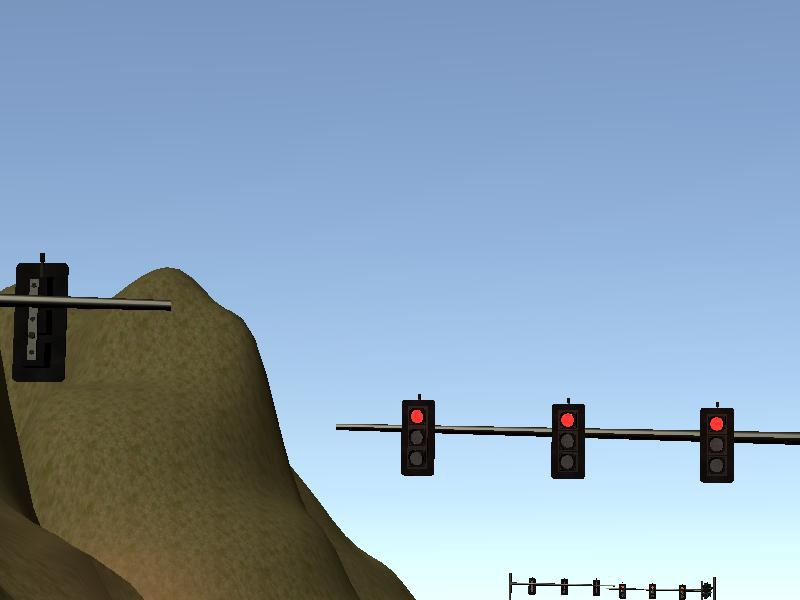red_light: (404, 401, 433, 472), (554, 405, 583, 476), (704, 410, 733, 481)
